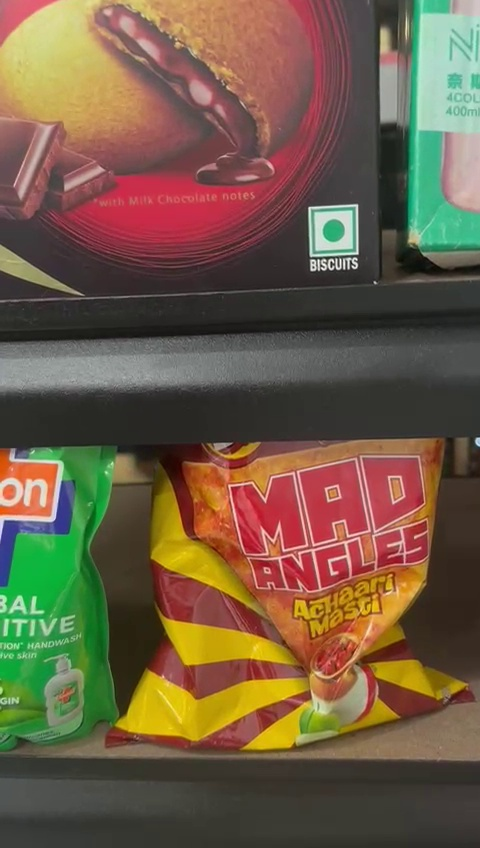Bingo Mad Angles: (148, 440, 452, 742)
